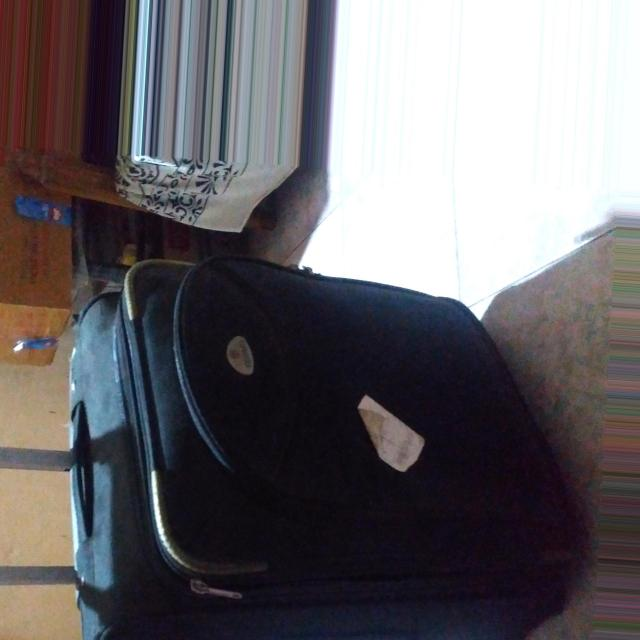Bag: (0, 260, 608, 640)
Handle: (0, 425, 102, 640)
